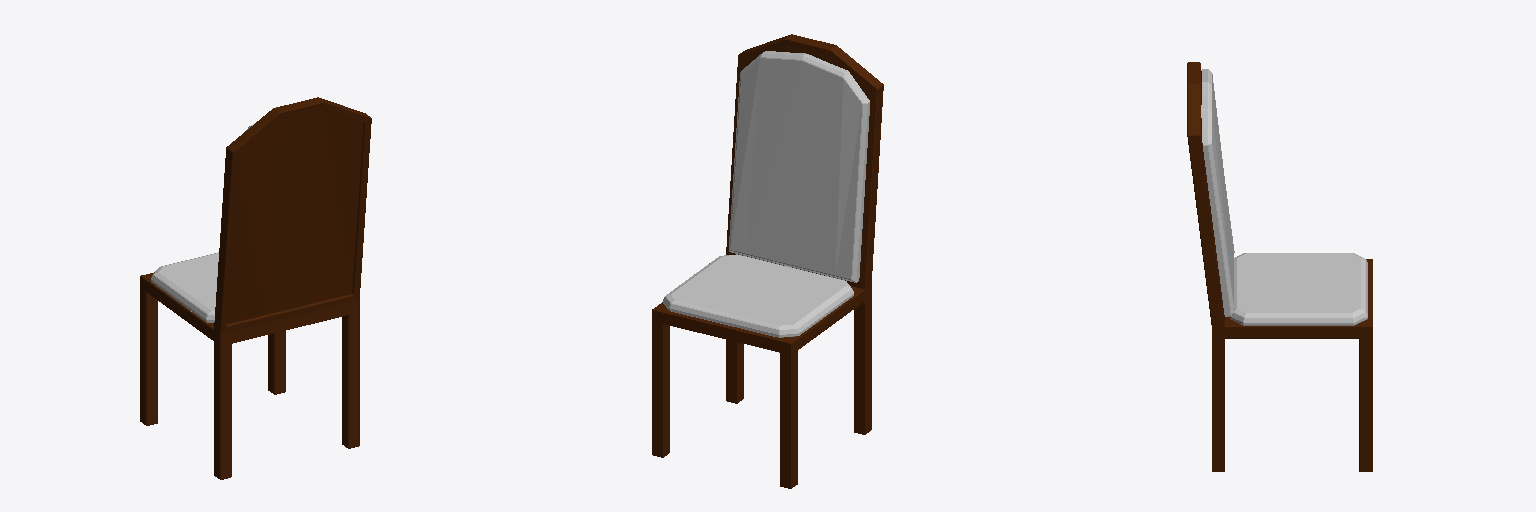
Rendered from Chair.obj.
3 renders of one model, left to right at view 1: azimuth 30°, elevation 25°; view 2: azimuth 150°, elevation 25°; view 3: azimuth 270°, elevation 25°, orthographic.
Visible parts, largest first — view 1: Chairset_Cube.050; view 2: Chairset_Cube.050; view 3: Chairset_Cube.050.
Boxes of the visible parts, x1=… form: Chairset_Cube.050: x1=140, y1=97, x2=371, y2=479; Chairset_Cube.050: x1=652, y1=34, x2=883, y2=488; Chairset_Cube.050: x1=1187, y1=62, x2=1372, y2=471.
Size of the model in its own units: 0.6 by 1.5 by 0.6909.